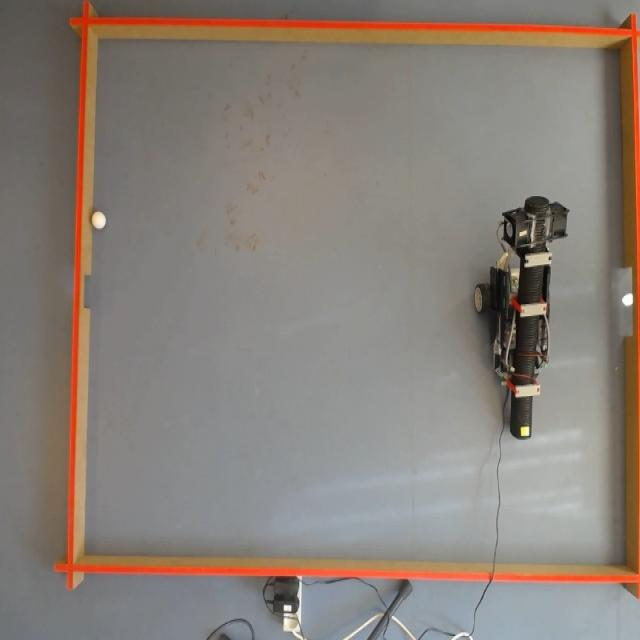robot: (474, 196, 570, 440)
robot-front: (511, 400, 532, 438)
white-golf-balls: (92, 211, 105, 229)
